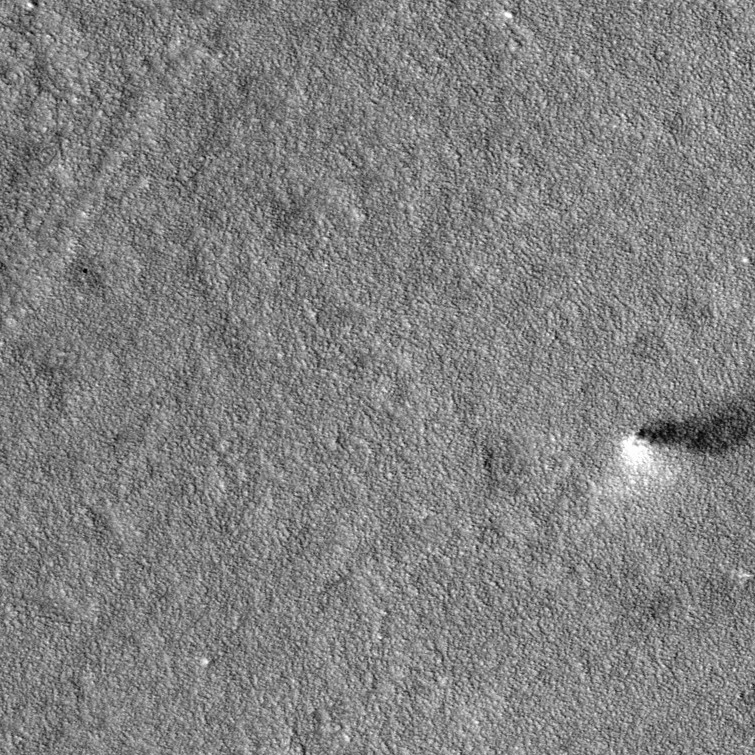dust_devil: (613, 396, 755, 483)
